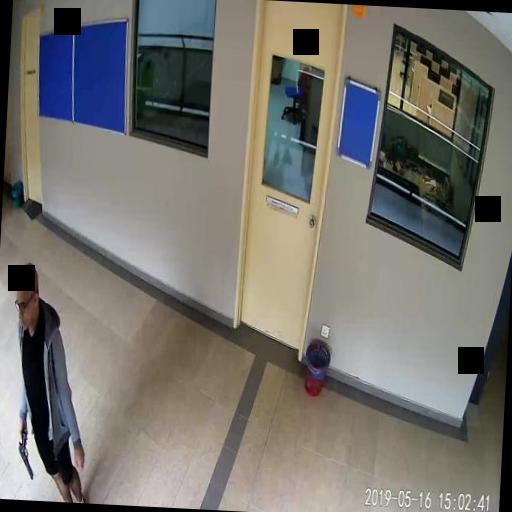Handgun: (16, 426, 34, 476)
